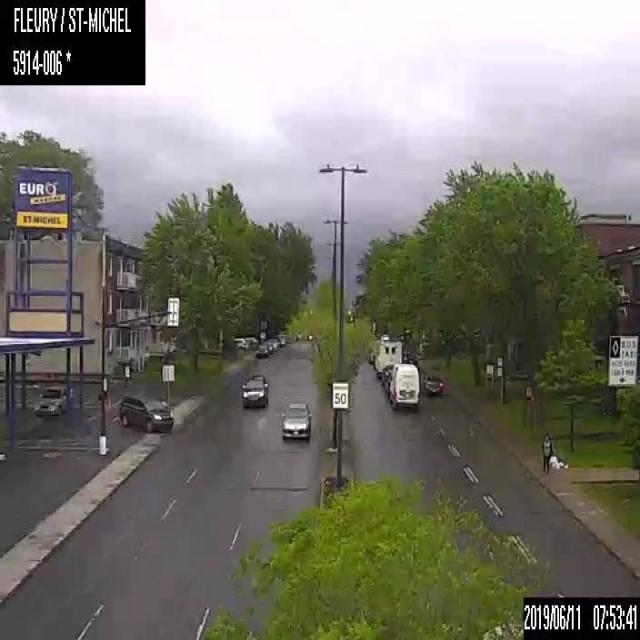pedestrian: (540, 431, 553, 469)
vehicle: (118, 390, 174, 435), (388, 361, 419, 408), (372, 335, 403, 378), (280, 400, 312, 440), (239, 370, 269, 410), (33, 382, 67, 416), (421, 372, 446, 398), (254, 341, 269, 357)
